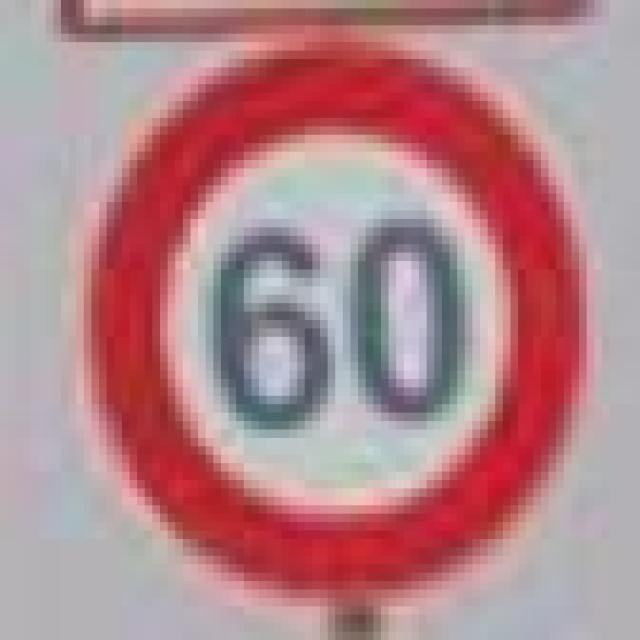Ograniczenie predkosci do 60: (69, 33, 579, 590)
